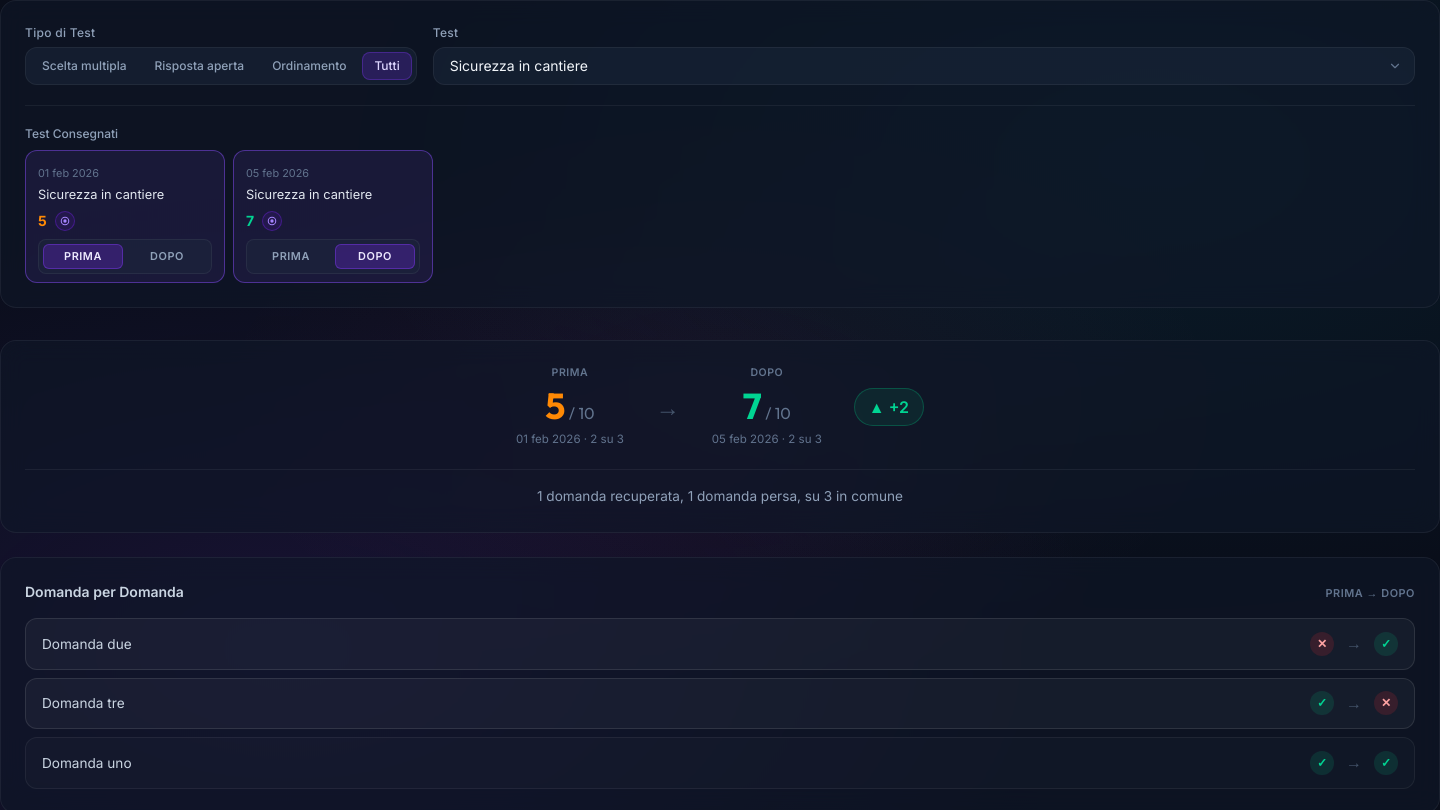
Test: ComparisonSimulations › di un test con un solo tentativo dice di sceglierne un altro
Click the dropdown named "Test" at x=519, y=66, box [433, 47, 1415, 85]
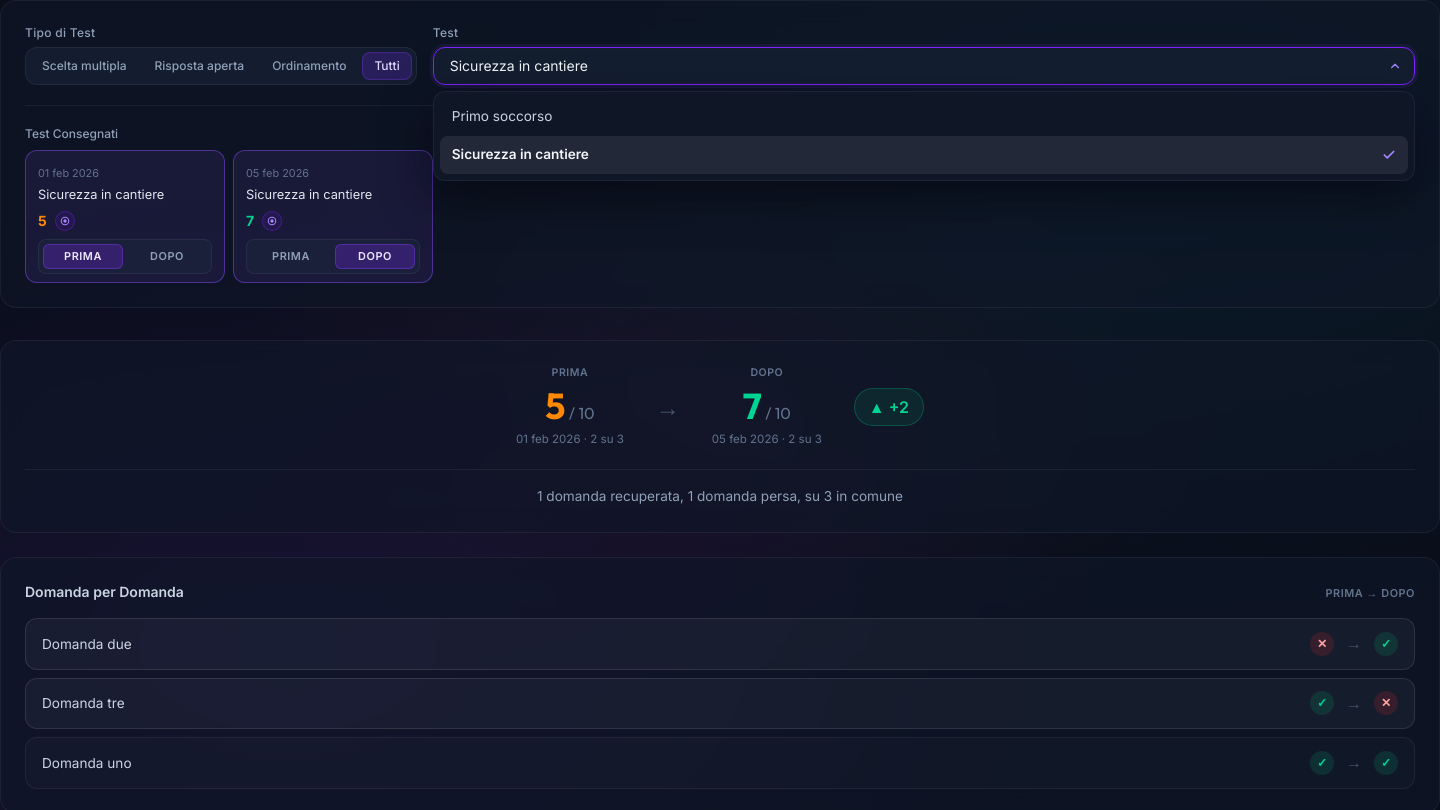
Click the option "Primo soccorso" at x=502, y=116, box [452, 108, 552, 124]
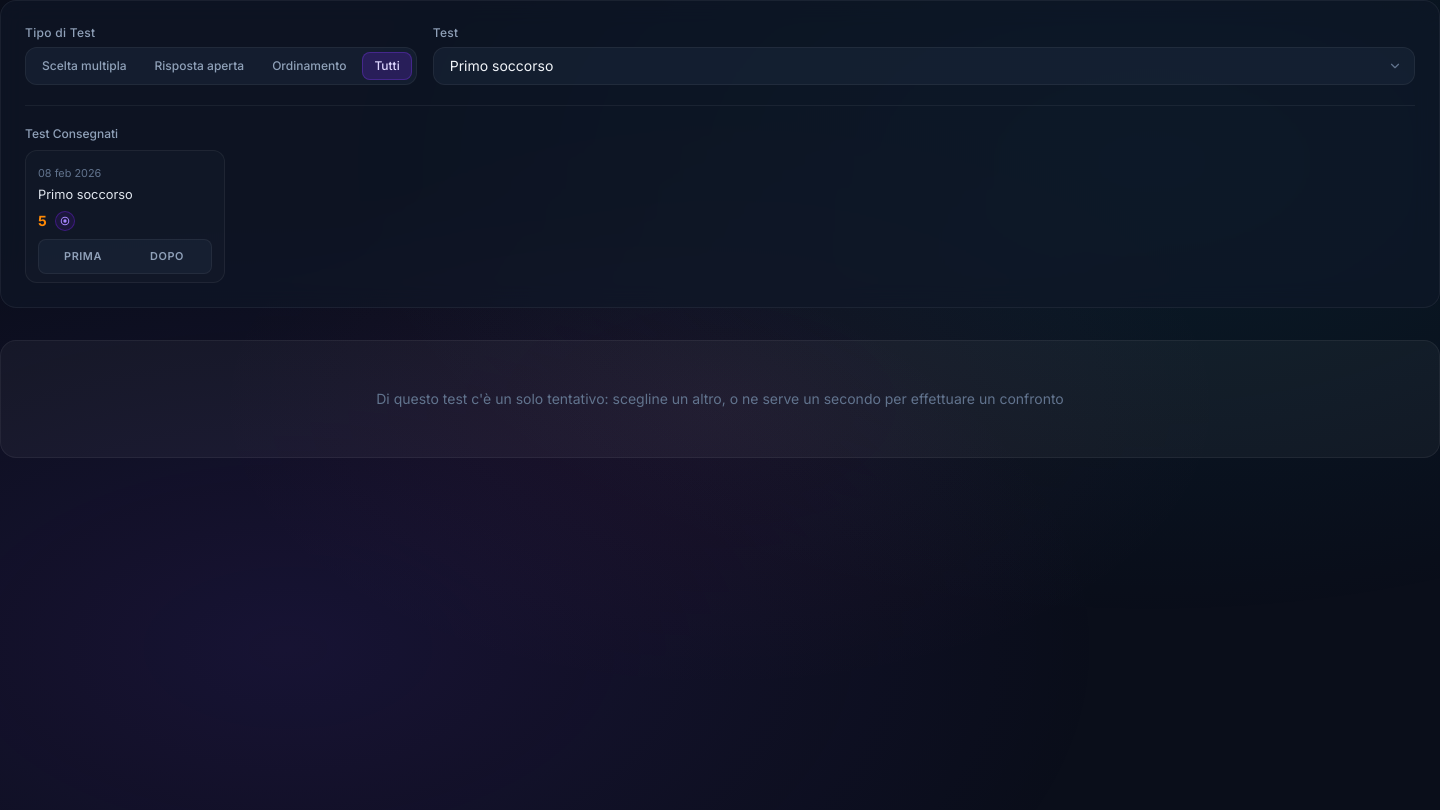
expect the text "Di questo test c'è un solo tentativo" is shown: met, box [376, 390, 1064, 408]
expect the heading "Domanda per Domanda" is gone: met
